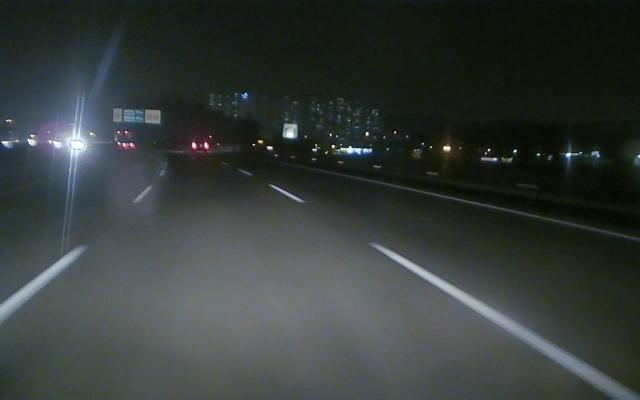lane: (263, 182, 634, 396), (327, 169, 640, 245), (1, 186, 152, 322)
